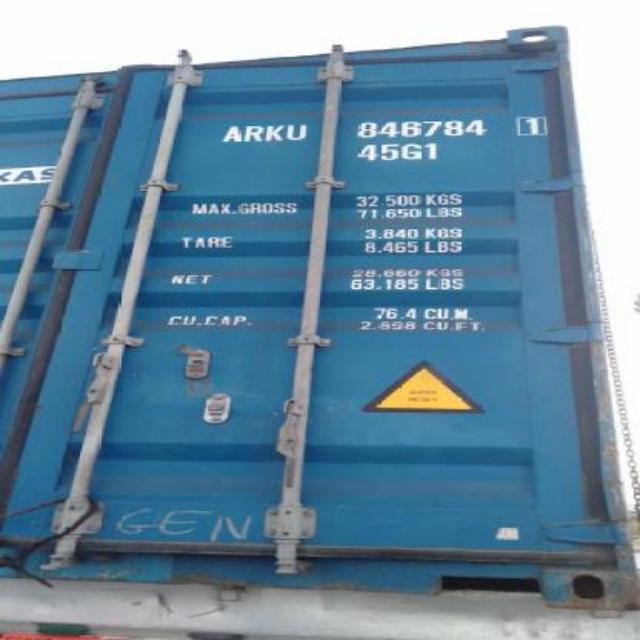1: (522, 117, 540, 135)
4: (376, 120, 402, 140), (466, 120, 486, 136)
6: (402, 120, 420, 140)
7: (421, 120, 442, 138)
8: (354, 120, 380, 140), (444, 119, 464, 137)
A: (220, 124, 242, 144)
K: (267, 124, 283, 140)
R: (242, 126, 264, 142)
U: (286, 124, 308, 140)
